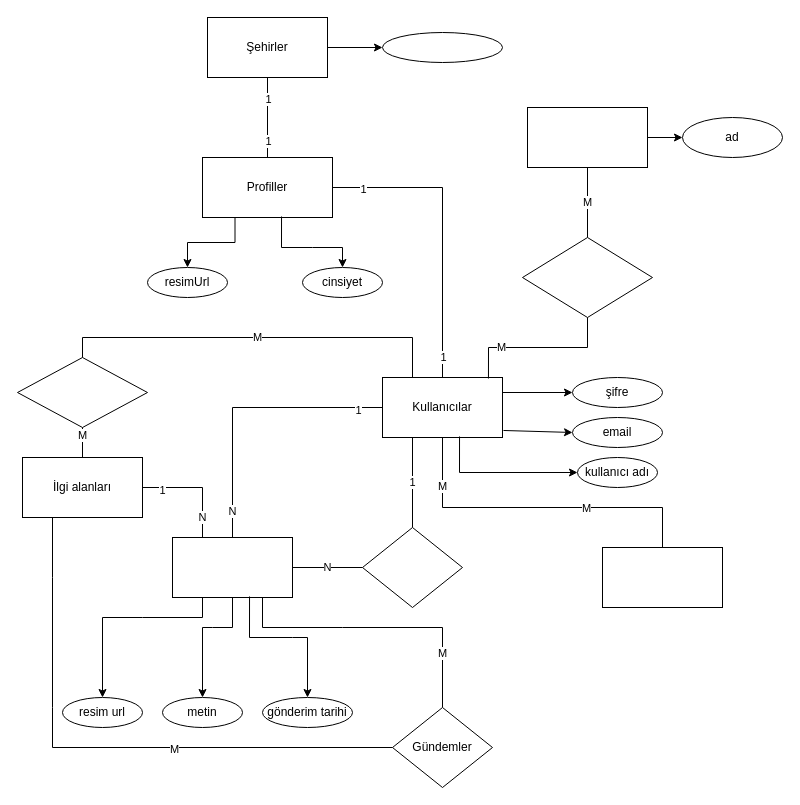
Image size: 800x805. Some labels were removed from this diagram. The shapes that lost their labels are listed below. From the top down, each one's box as (x1, y1, x2, y2) in pixels, then its label:
(382, 32, 502, 62): Adı
(526, 106, 648, 168): Yetki Türleri
(522, 236, 652, 318): Yetkilendir
(16, 356, 148, 428): sahiptir
(172, 536, 292, 598): Gönderiler
(362, 526, 462, 608): Begeniler
(602, 546, 722, 608): Eşieşmeler
